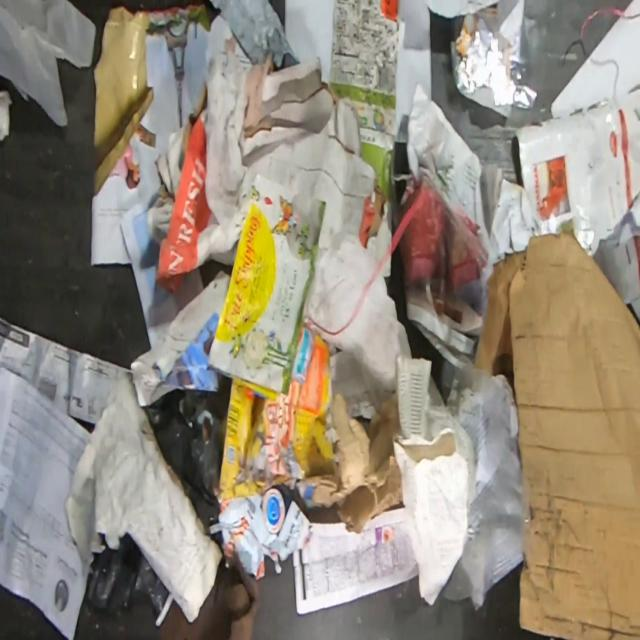cardboard: (508, 230, 640, 640), (238, 54, 376, 249), (217, 322, 341, 502), (303, 390, 404, 535), (147, 82, 212, 297), (473, 248, 526, 390)
soft_plastic: (424, 355, 524, 612), (146, 373, 232, 529), (449, 14, 539, 110), (85, 533, 169, 617)
